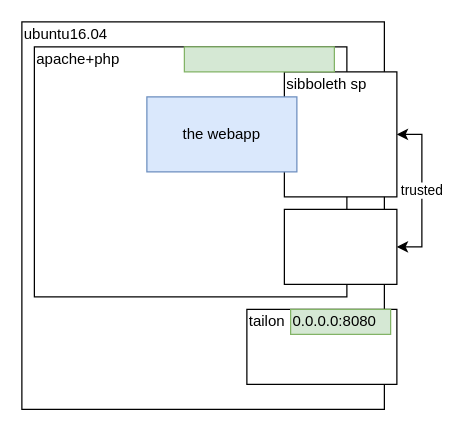
The diagram is 465 pixels wide and 431 high, and some of its shapes have lost their labels. Each missing label, with the centre of its shape:
"https://project.local" belongs at point (258, 59).
"simplesaml idp" belongs at point (340, 246).
